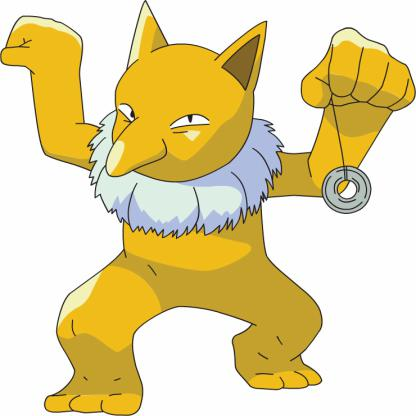Hypno: (3, 2, 416, 412)
